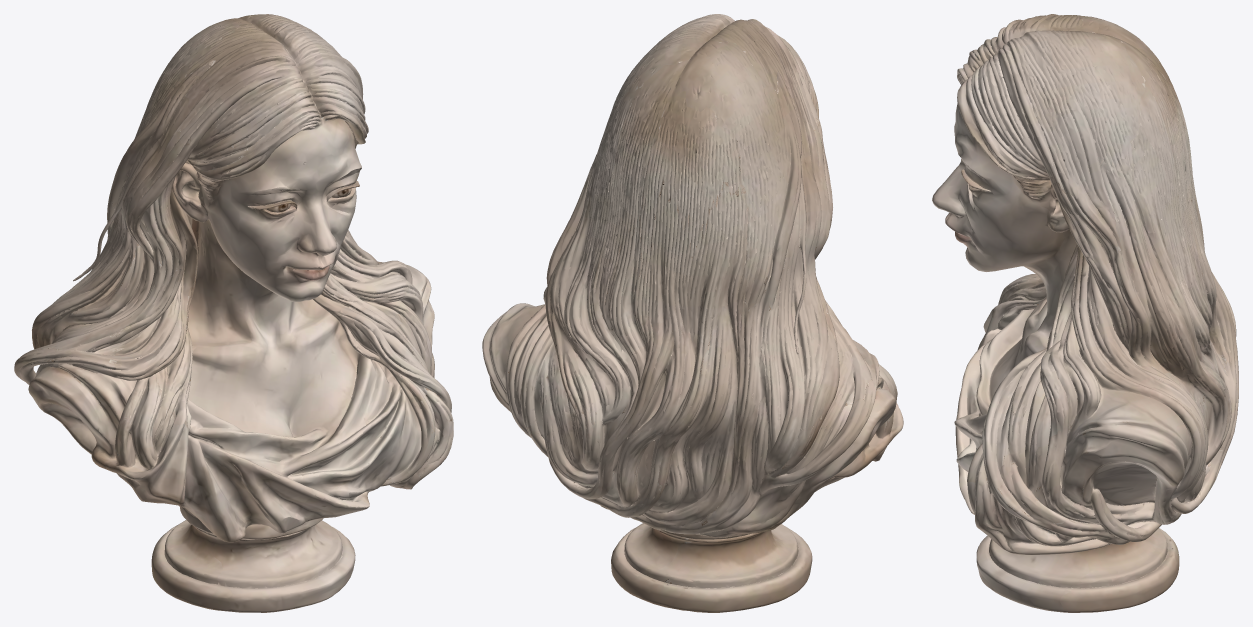
3 renders of one model, left to right at view 1: azimuth 30°, elevation 25°; view 2: azimuth 150°, elevation 25°; view 3: azimuth 270°, elevation 25°, orthographic. The views are drawn at different scales.
Visible parts, largest first — view 1: model; view 2: model; view 3: model.
Boxes of the visible parts, x1,y1,x2,y2 form: model: [14, 14, 453, 612]; model: [482, 14, 903, 612]; model: [932, 14, 1238, 612].
Bounding box in the file's own units: 1.41 × 1.9 × 0.9632.
1 material, 1 textured.
